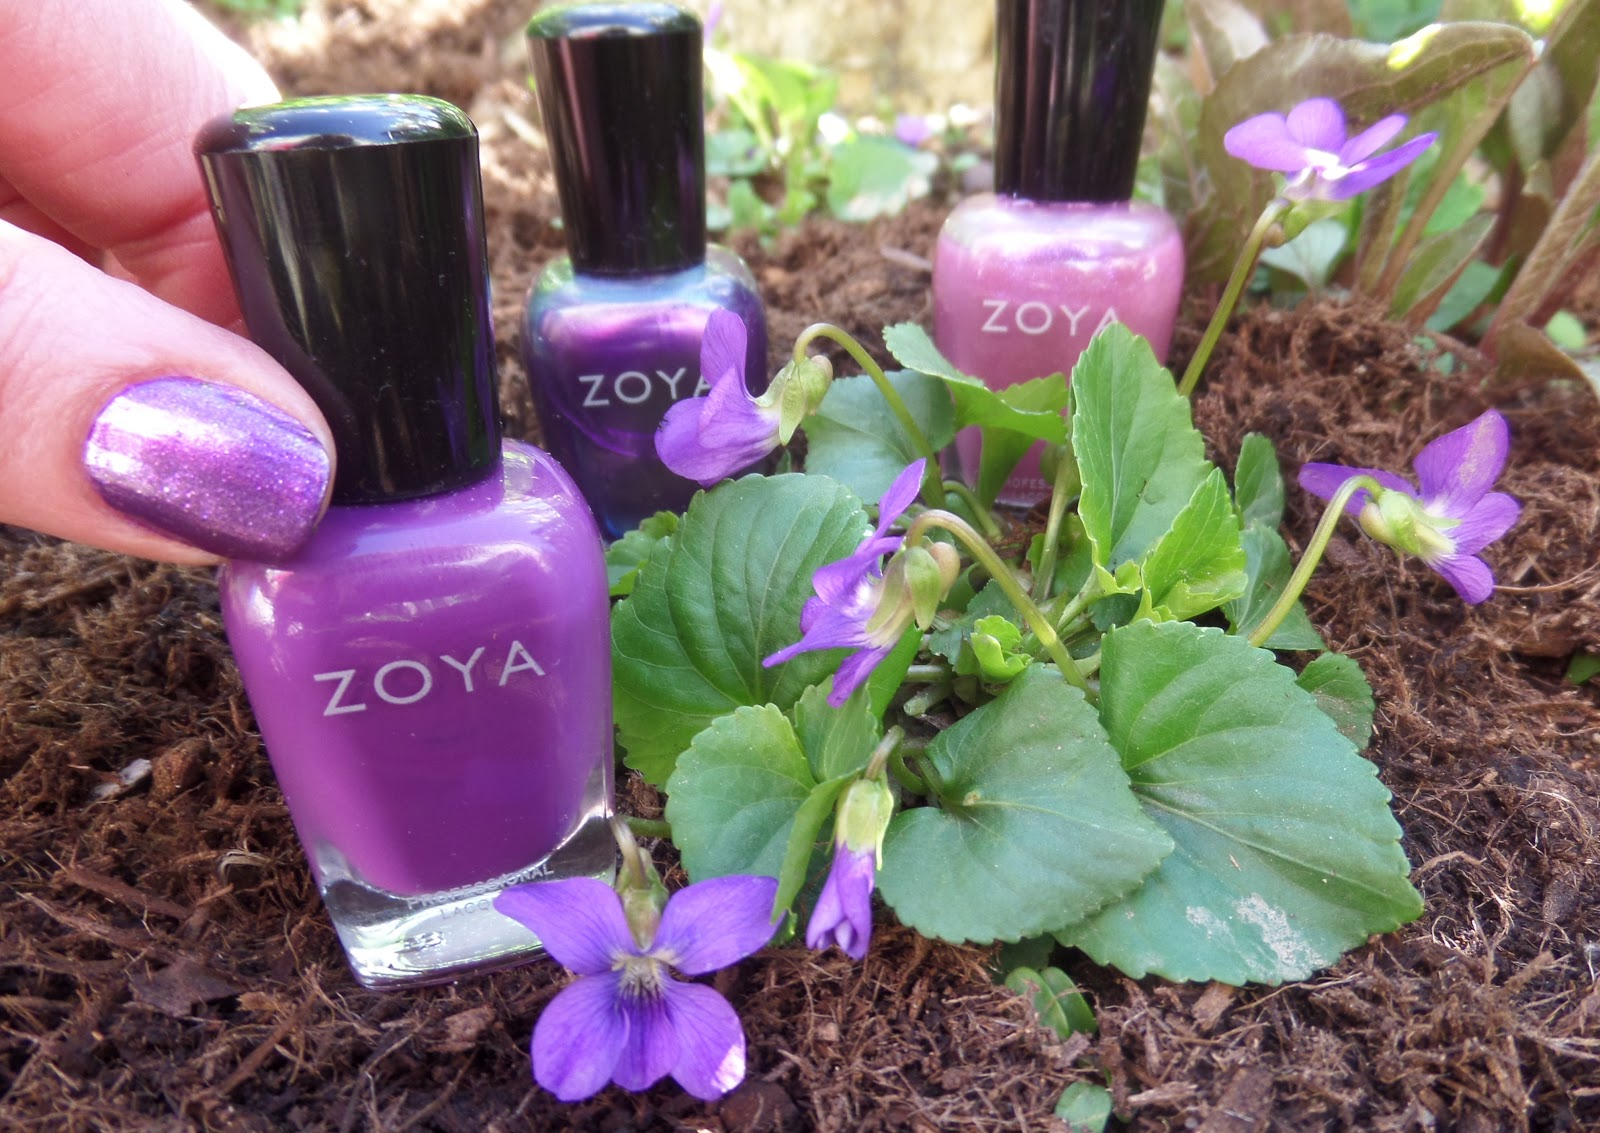violet: (486, 856, 792, 1133), (1307, 422, 1553, 607), (777, 497, 956, 690), (665, 330, 834, 508), (1229, 97, 1439, 235)
